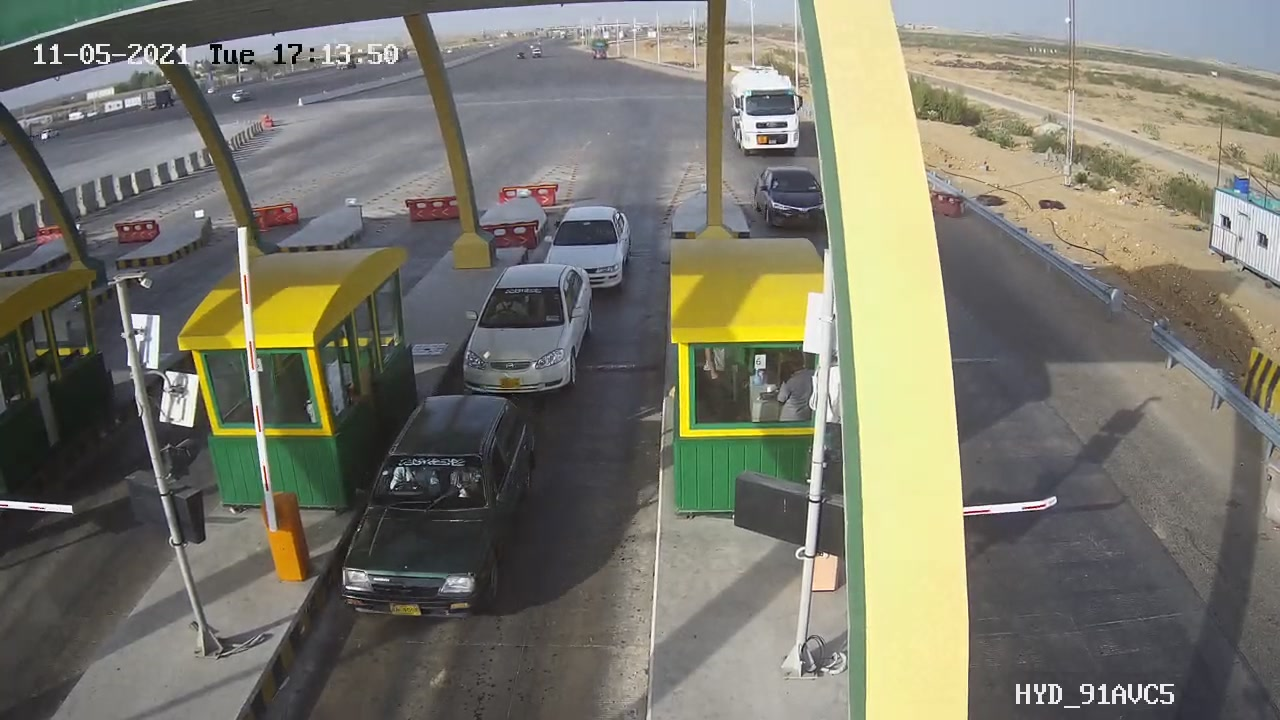F1: (318, 383, 548, 634), (446, 255, 605, 412), (525, 194, 646, 304)
